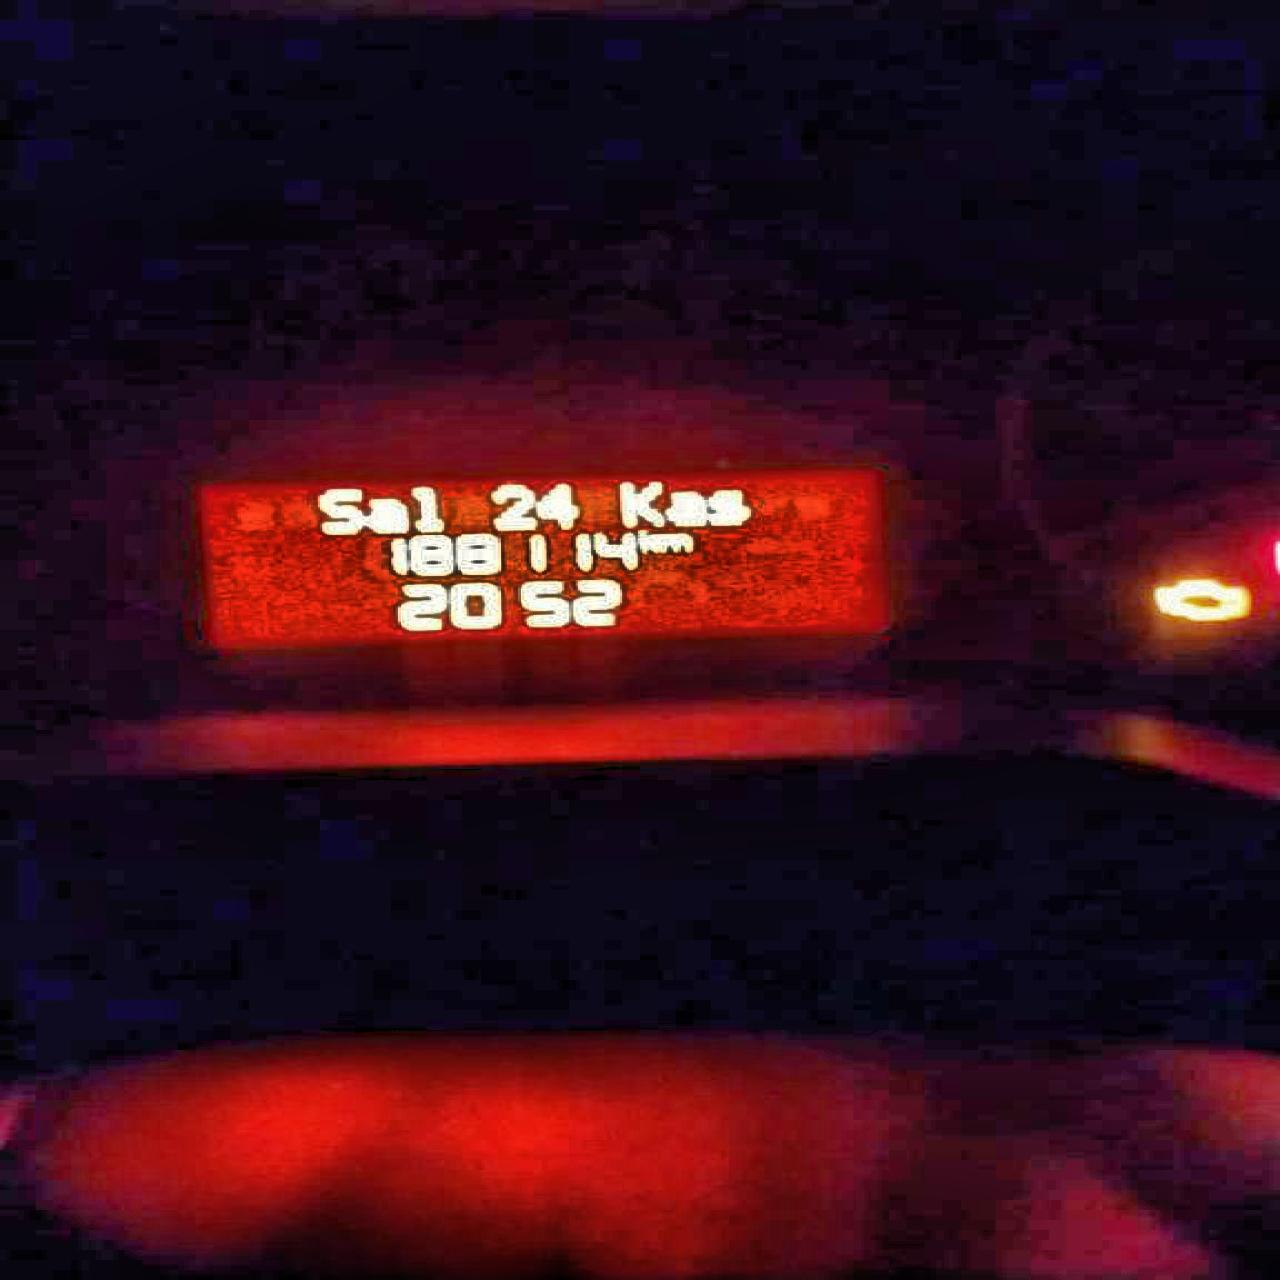0: (447, 580, 502, 630)
1: (524, 532, 549, 572), (387, 536, 409, 576), (571, 531, 591, 571)
2: (391, 581, 449, 631), (569, 578, 622, 626), (487, 481, 538, 530)
4: (533, 481, 580, 530), (594, 530, 636, 570)
5: (513, 578, 569, 628)
8: (453, 533, 502, 575), (409, 532, 453, 576)
X: (311, 486, 365, 535), (616, 478, 664, 528), (364, 496, 409, 534), (707, 488, 751, 526), (411, 483, 445, 532), (662, 489, 707, 526), (660, 530, 693, 552), (636, 528, 660, 554)
odometer: (193, 465, 889, 650)
